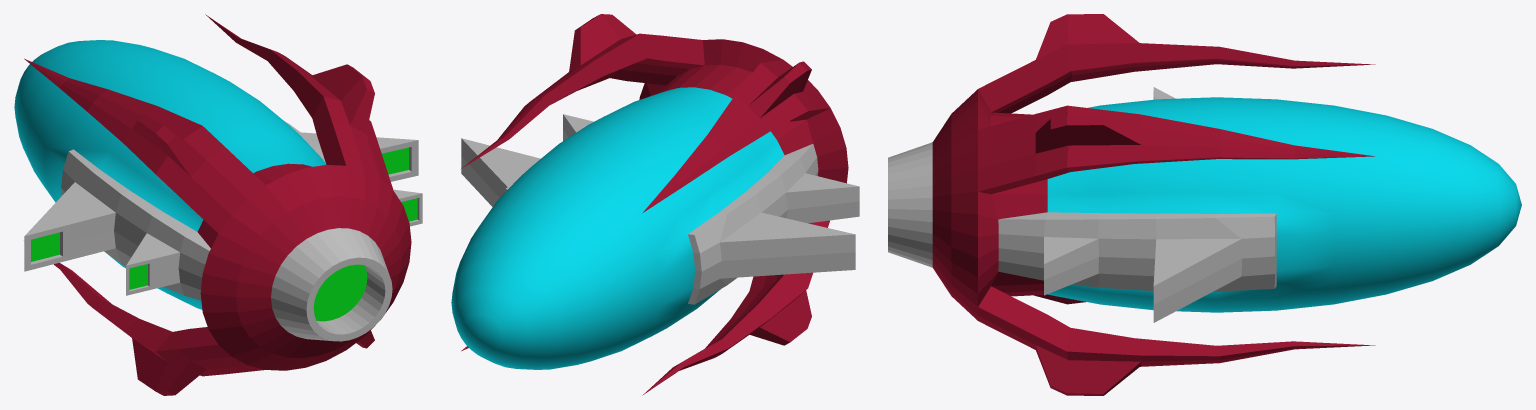
The model's file is NeurolinkMitocarrier.fbx.
3 renders of one model, left to right at view 1: azimuth 30°, elevation 25°; view 2: azimuth 150°, elevation 25°; view 3: azimuth 270°, elevation 25°, orthographic. The views are drawn at different scales.
Parts seen in each view (by area): view 1: NeurolinkMitocarrier; view 2: NeurolinkMitocarrier; view 3: NeurolinkMitocarrier.
Part boxes in pixels (<box>): NeurolinkMitocarrier: <box>14,14,422,395</box>; NeurolinkMitocarrier: <box>451,14,859,395</box>; NeurolinkMitocarrier: <box>888,14,1521,395</box>.
Bounding box in the file's own units: 638 × 418 × 856.
